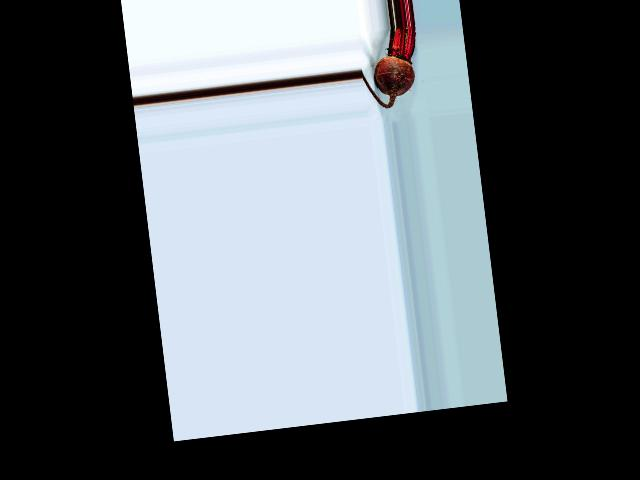beet: (357, 24, 424, 110)
